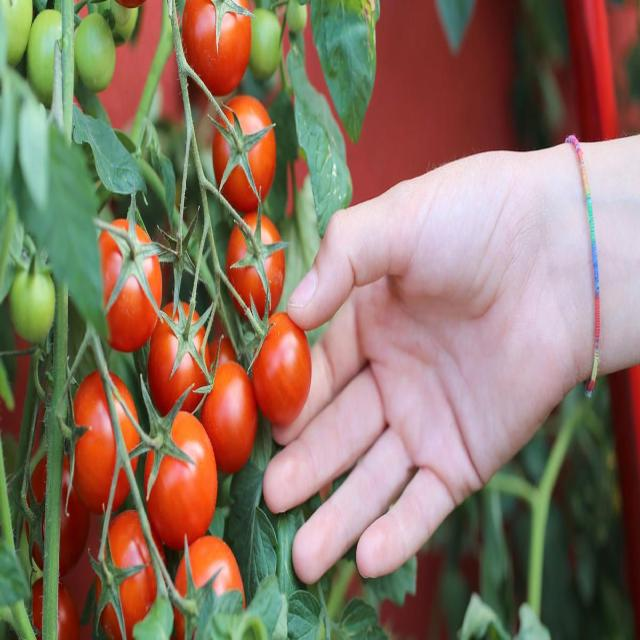level 2: (9, 263, 56, 342), (74, 11, 117, 93), (77, 16, 116, 92), (243, 8, 283, 75), (0, 0, 35, 67), (284, 0, 309, 36)
level 6: (68, 365, 142, 511), (94, 507, 174, 640), (144, 412, 217, 552), (17, 439, 91, 573), (94, 218, 163, 350), (196, 337, 258, 472), (170, 538, 246, 640), (212, 96, 277, 212), (250, 311, 311, 429), (148, 303, 210, 417), (182, 0, 252, 98), (226, 214, 285, 326), (7, 579, 78, 640)
